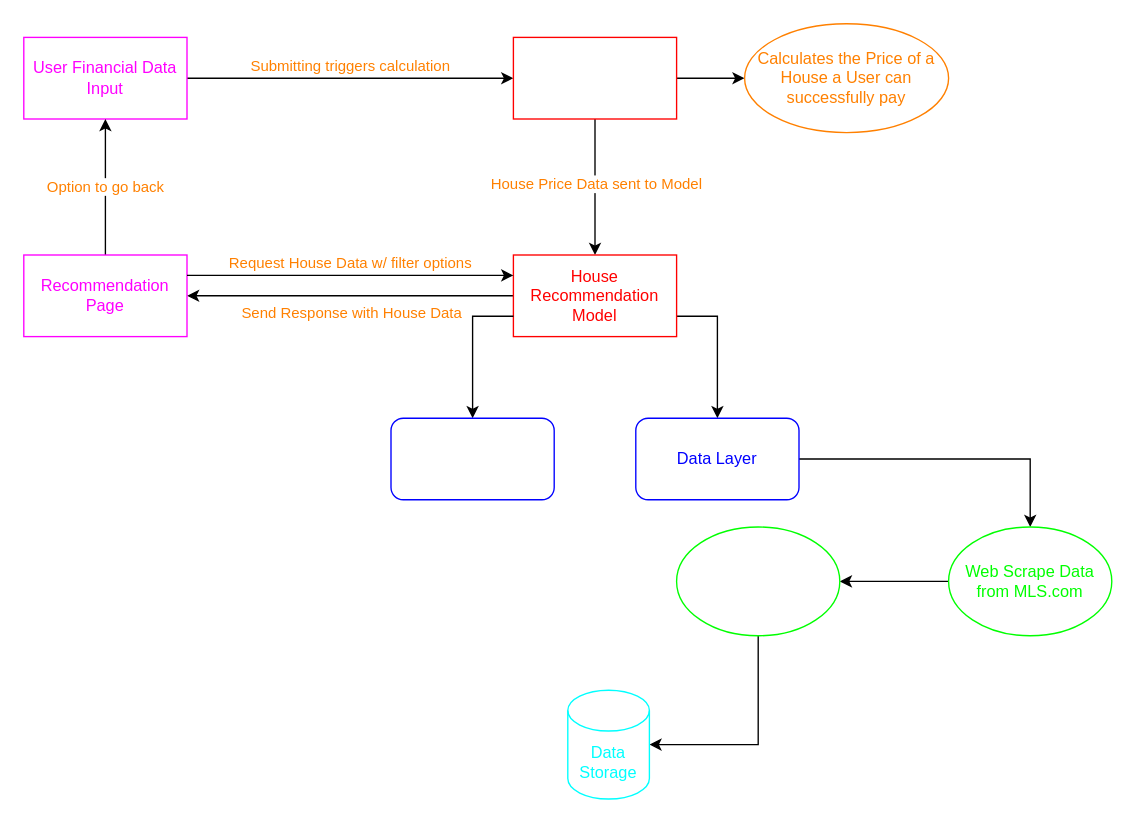
Image size: 1136x823. Some labels were removed from this diagram. The shapes that lost their labels are listed below. From the top down, each one's centre as x and y in pixels, then its label:
point (594, 77): Financial Calculator
point (472, 458): Recommendation Engine
point (757, 581): Clean, Preprocess, and Feature Extract Data
